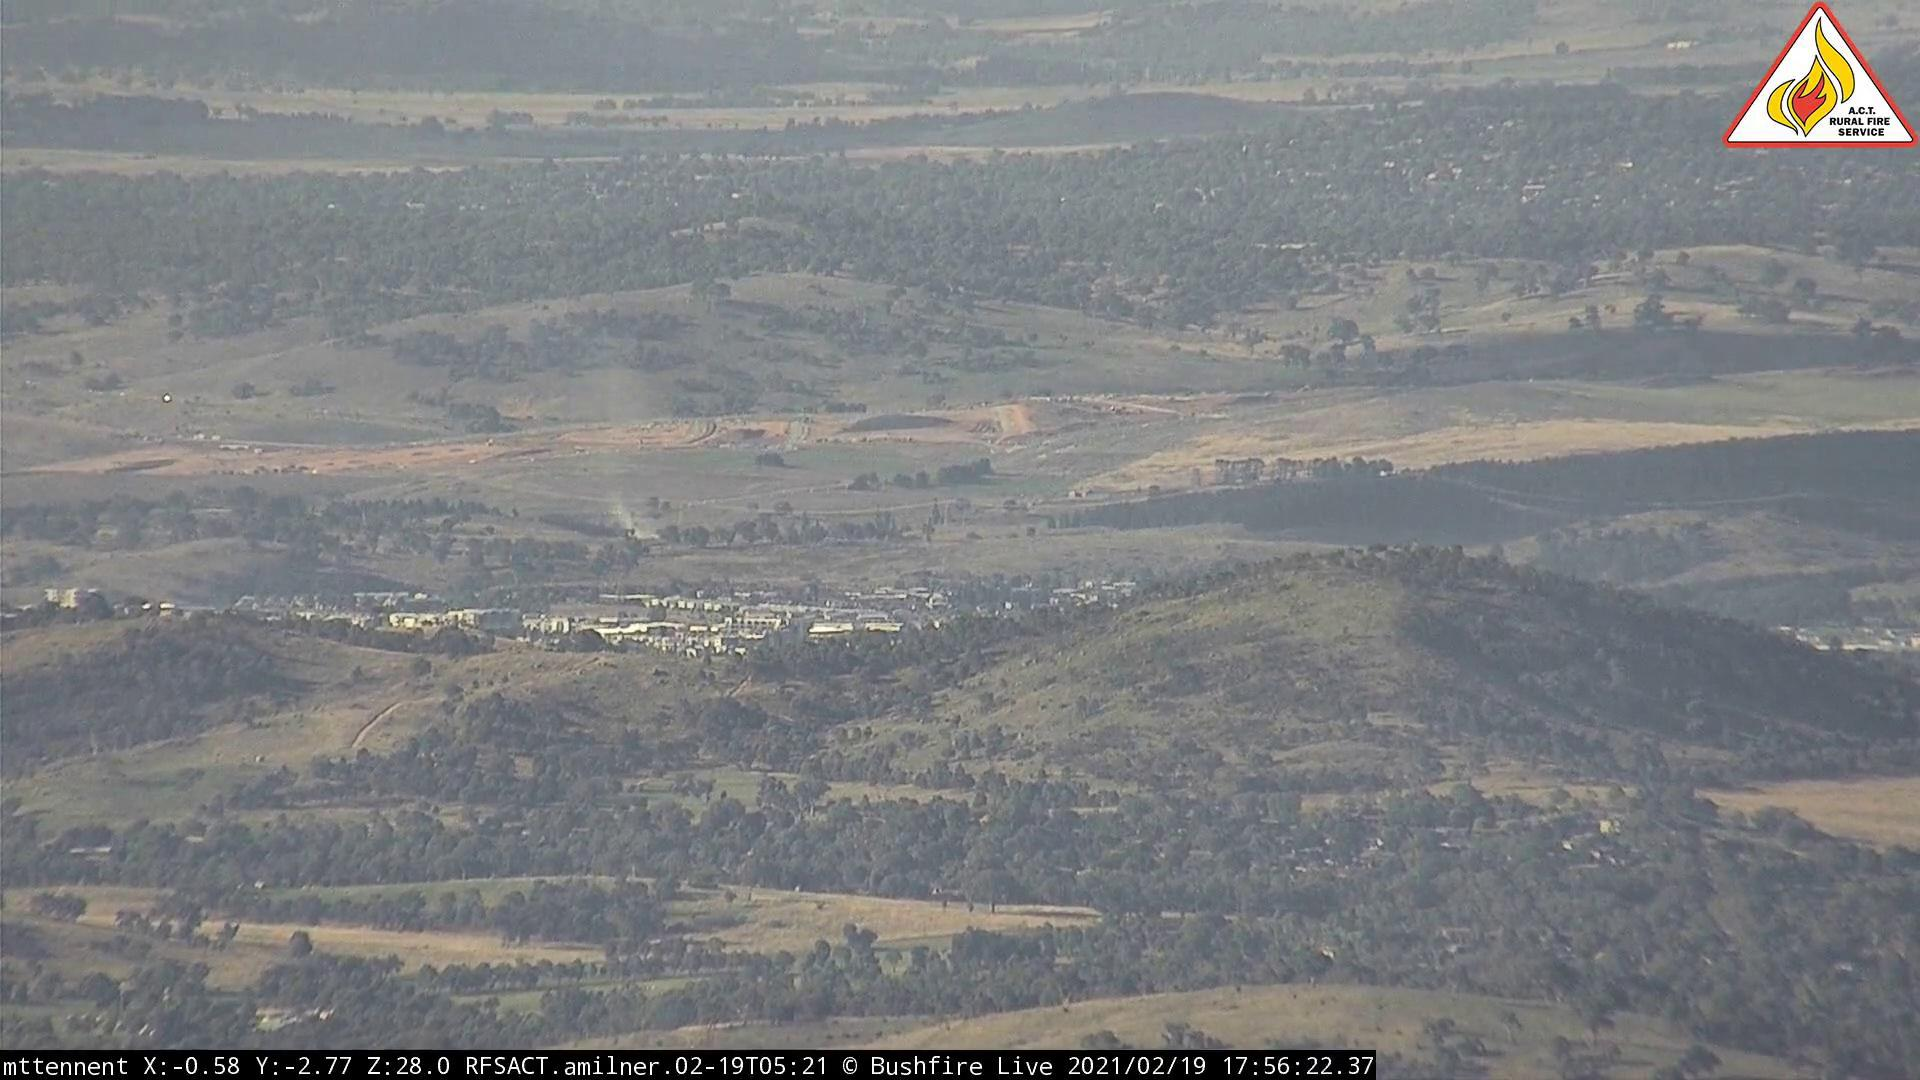Smoke: (574, 463, 678, 553)
